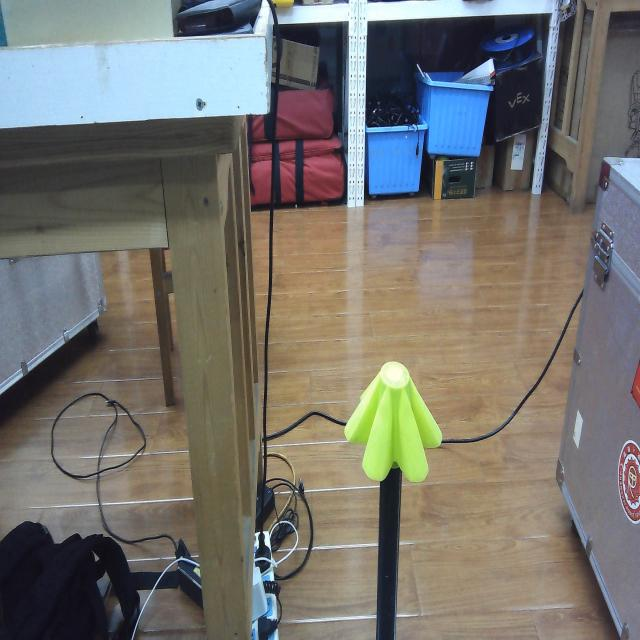Yellow-Stake-Head: (344, 361, 443, 482)
